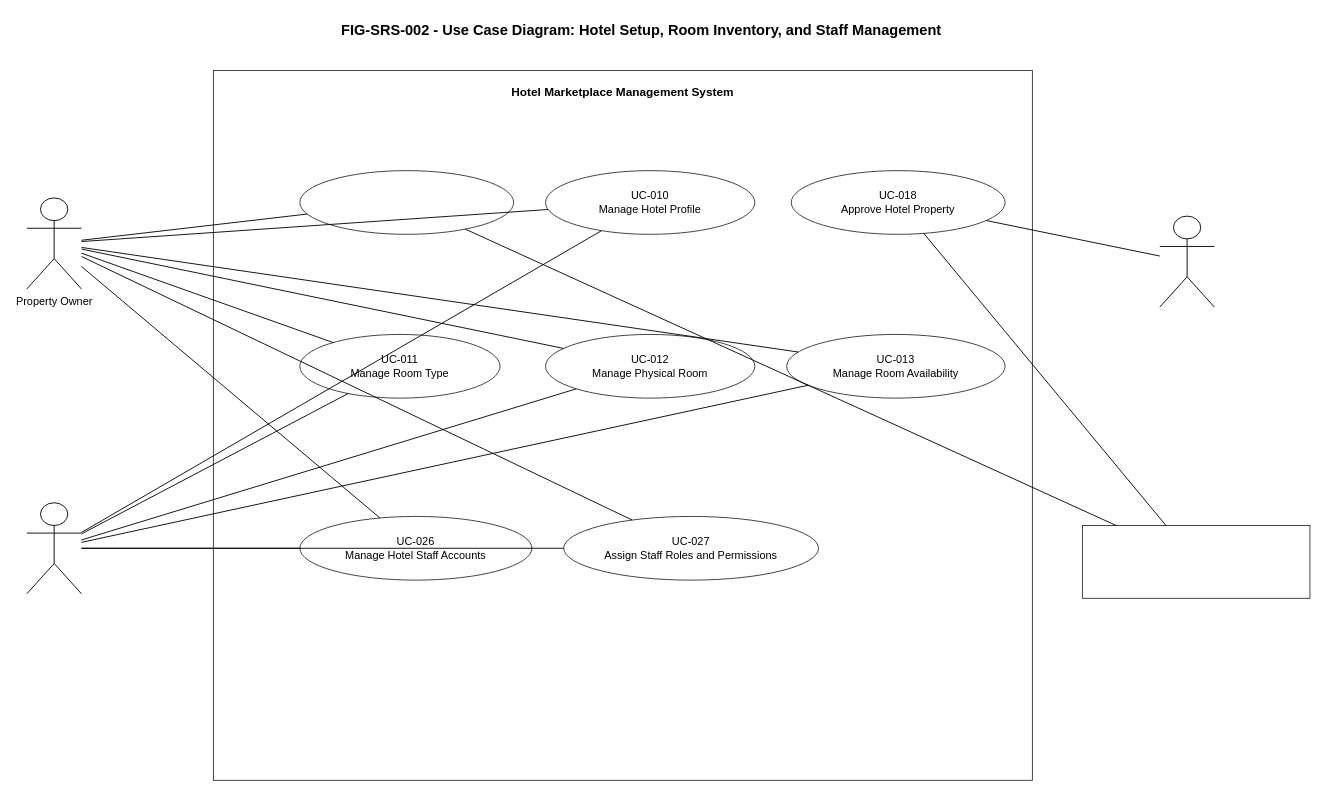
Some shapes in this 1326 by 796 pixel diagram are drawn without their labels. The centre of each missing label's shape, as x and y in pixels:
"Hotel Manager" goes at point (53, 548).
"Notification Service <<external system / mock>>" goes at point (1196, 561).
"Platform Administrator" goes at point (1186, 261).
"UC-009 Register Hotel Property" goes at point (406, 202).
